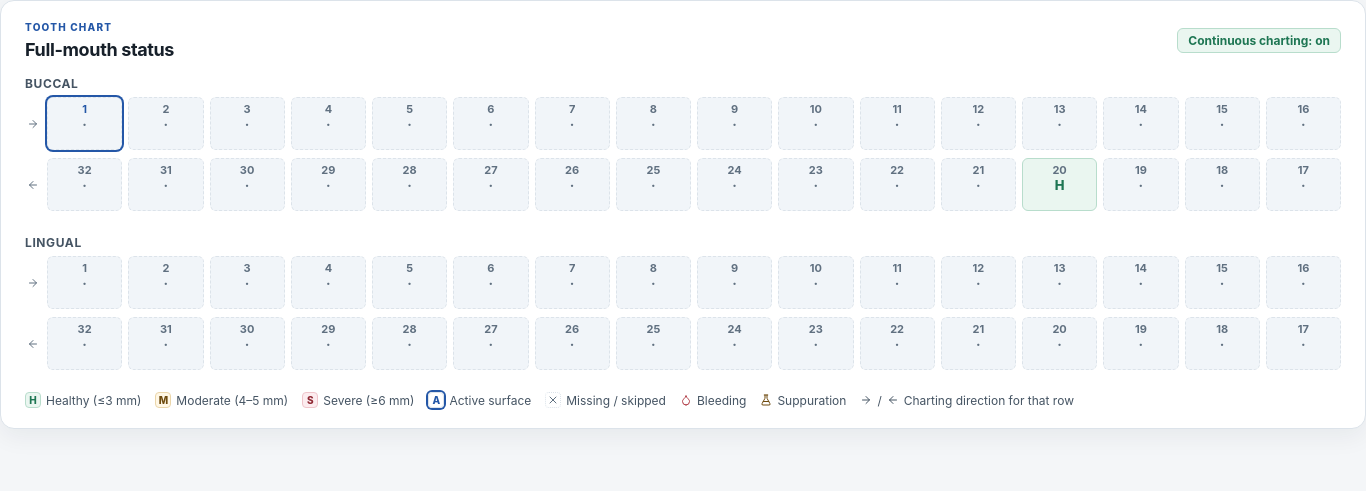
it: ToothChart › clicking a surface cell only shows details locally, never changing chart state
Click the button named "Tooth 20 buccal:" at (1060, 184), box 1022,158 -> 1097,211
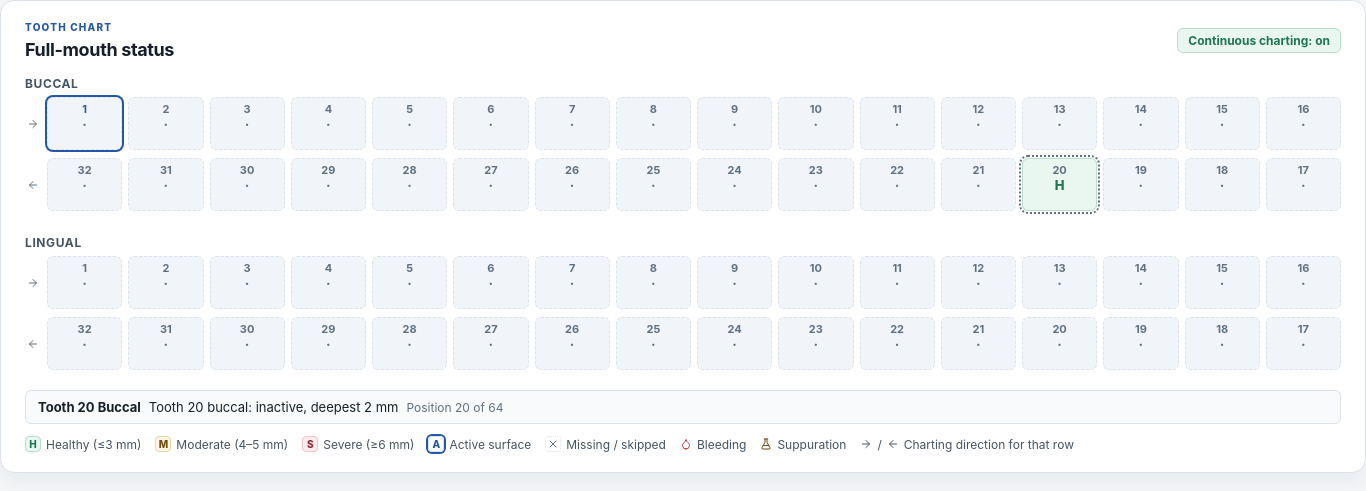
Result: the message shows "Tooth 20 Buccal" at 149,399 -> 398,415
